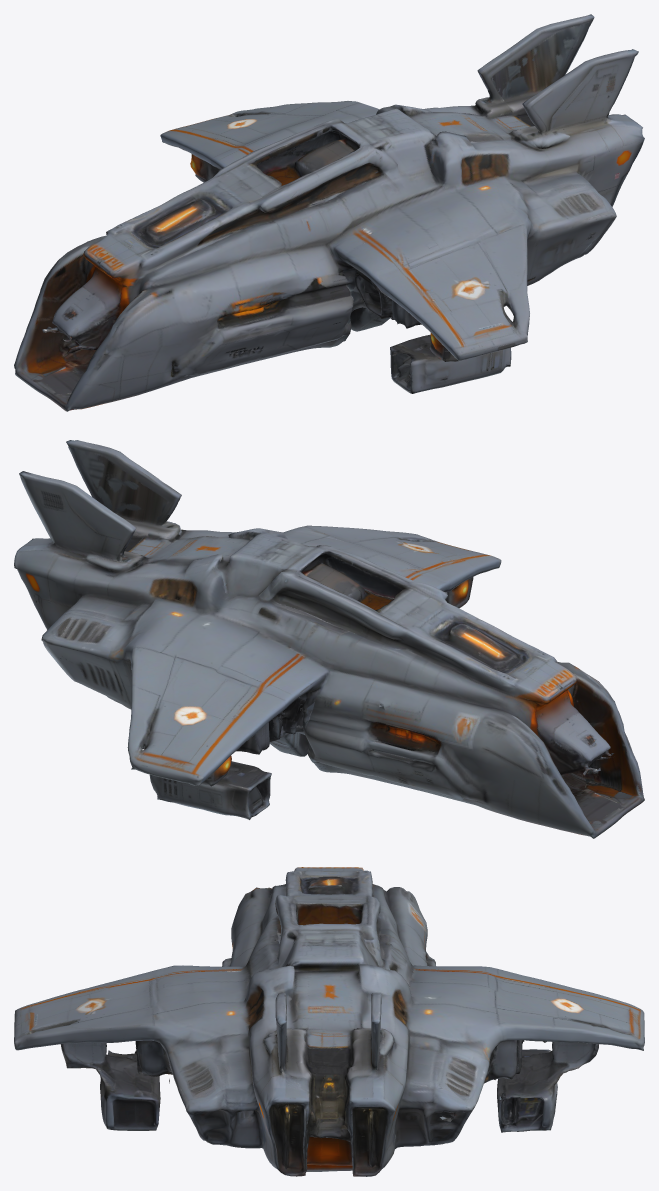
Rendered from dropship.glb.
The picture shows the model from 3 angles, top to bottom: view 1: azimuth 30°, elevation 25°; view 2: azimuth 150°, elevation 25°; view 3: azimuth 270°, elevation 25°; orthographic projection. The views are drawn at different scales.
Visible parts, largest first — view 1: Mesh_0; view 2: Mesh_0; view 3: Mesh_0.
Part boxes in pixels (x1,y1,x2,y2): Mesh_0: (14,14,644,411); Mesh_0: (14,440,644,838); Mesh_0: (14,867,644,1176).
Size of the model in its own units: 2.69 by 1 by 2.44.
Materials: 1 (1 with a texture image).
